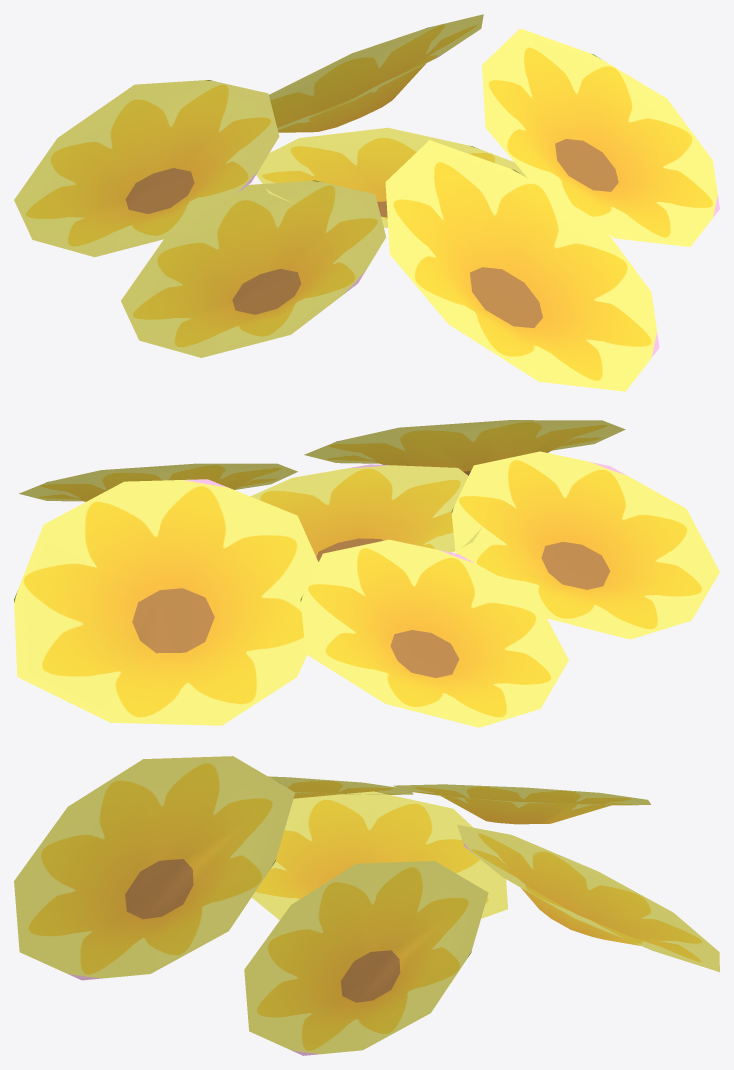
File: SM_Yellow_Flower.fbx
3 views of the same model, one above another, from view 1: azimuth 30°, elevation 25°; view 2: azimuth 150°, elevation 25°; view 3: azimuth 270°, elevation 25° (orthographic). The views are drawn at different scales.
Visible parts, largest first — view 1: SM_Yellow_Flower_LOD0; view 2: SM_Yellow_Flower_LOD0; view 3: SM_Yellow_Flower_LOD0.
Boxes of the visible parts, x1,y1,x2,y2 form: SM_Yellow_Flower_LOD0: (14, 14, 719, 391); SM_Yellow_Flower_LOD0: (14, 420, 719, 727); SM_Yellow_Flower_LOD0: (14, 756, 719, 1055).
Size of the model in its own units: 30.9 by 33.65 by 7.42.
